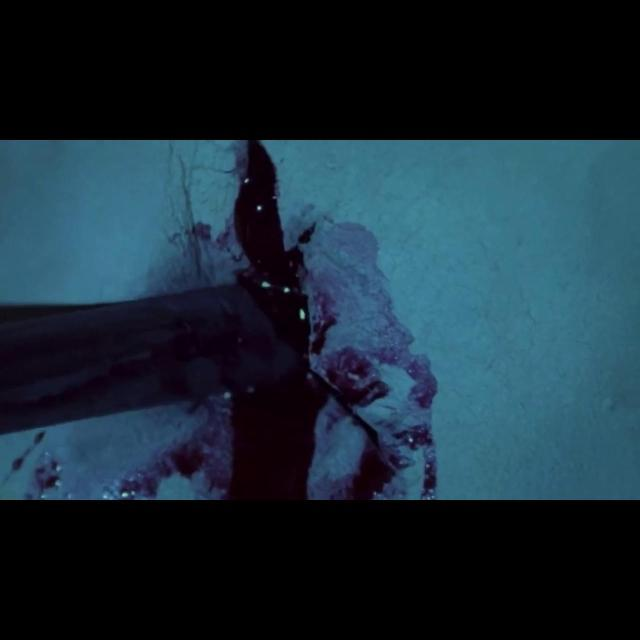blood: (0, 140, 438, 500)
